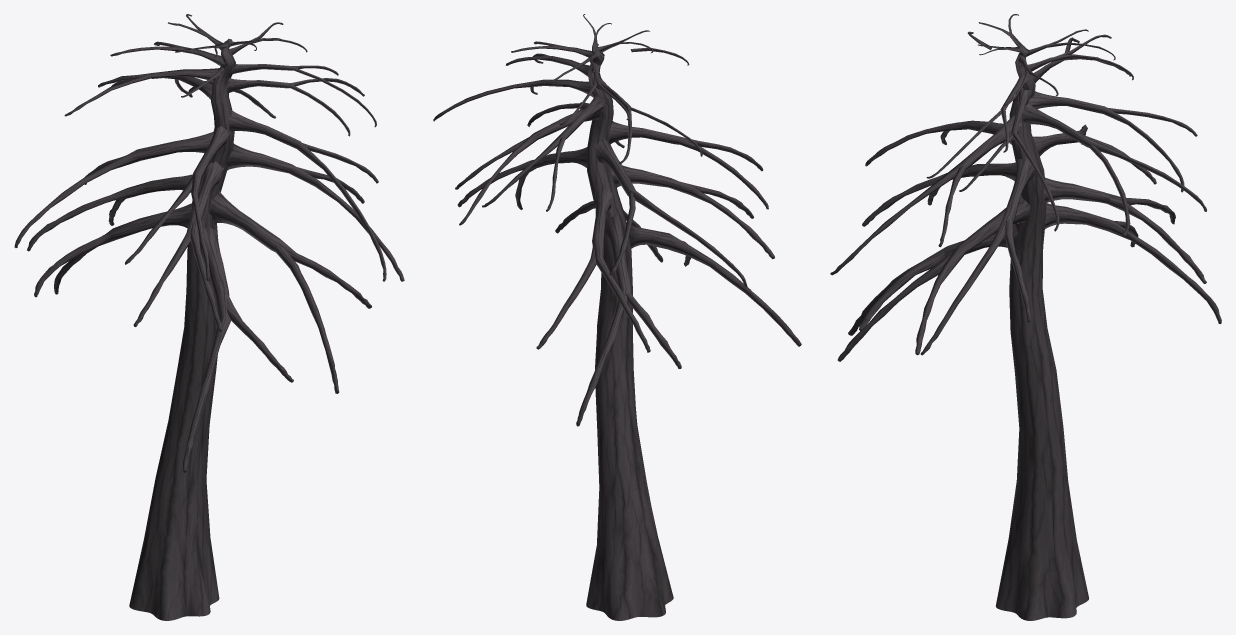
File: dead_tree_4.gltf
3 views of the same model, side by side, from view 1: azimuth 30°, elevation 25°; view 2: azimuth 150°, elevation 25°; view 3: azimuth 270°, elevation 25° (orthographic). The views are drawn at different scales.
Visible parts, largest first — view 1: dead_tree_4; view 2: dead_tree_4; view 3: dead_tree_4.
Boxes of the visible parts, x1,y1,x2,y2 form: dead_tree_4: [14, 14, 404, 620]; dead_tree_4: [433, 14, 801, 620]; dead_tree_4: [830, 14, 1221, 620].
Size of the model in its own units: 7.96 by 12.77 by 7.73.
1 material, 1 textured.
